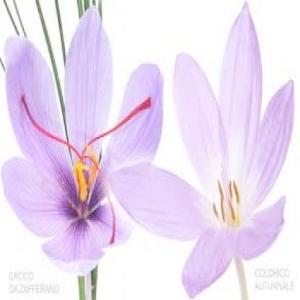Saffron: (112, 3, 298, 298), (5, 6, 168, 278)
